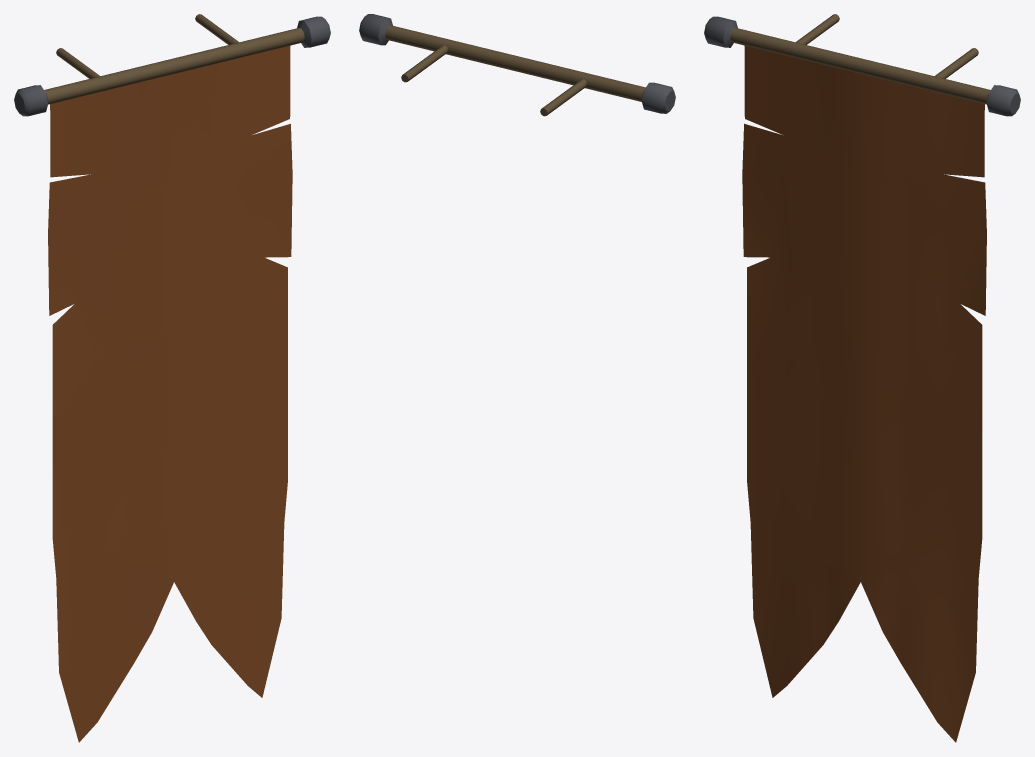
The model's file is banner.glb.
3 views of the same model, side by side, from view 1: azimuth 30°, elevation 25°; view 2: azimuth 150°, elevation 25°; view 3: azimuth 330°, elevation 25° (orthographic).
Visible parts, largest first — view 1: Flag_Wall2; view 2: Flag_Wall2; view 3: Flag_Wall2.
Boxes of the visible parts, x1,y1,x2,y2 form: Flag_Wall2: [14, 14, 330, 742]; Flag_Wall2: [359, 14, 675, 116]; Flag_Wall2: [704, 14, 1020, 742].
Size of the model in its own units: 1.13 by 2.35 by 0.3224.
